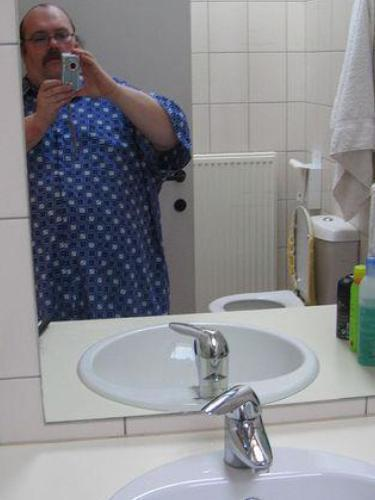Lavamanos: (66, 311, 319, 421), (84, 430, 375, 500)
